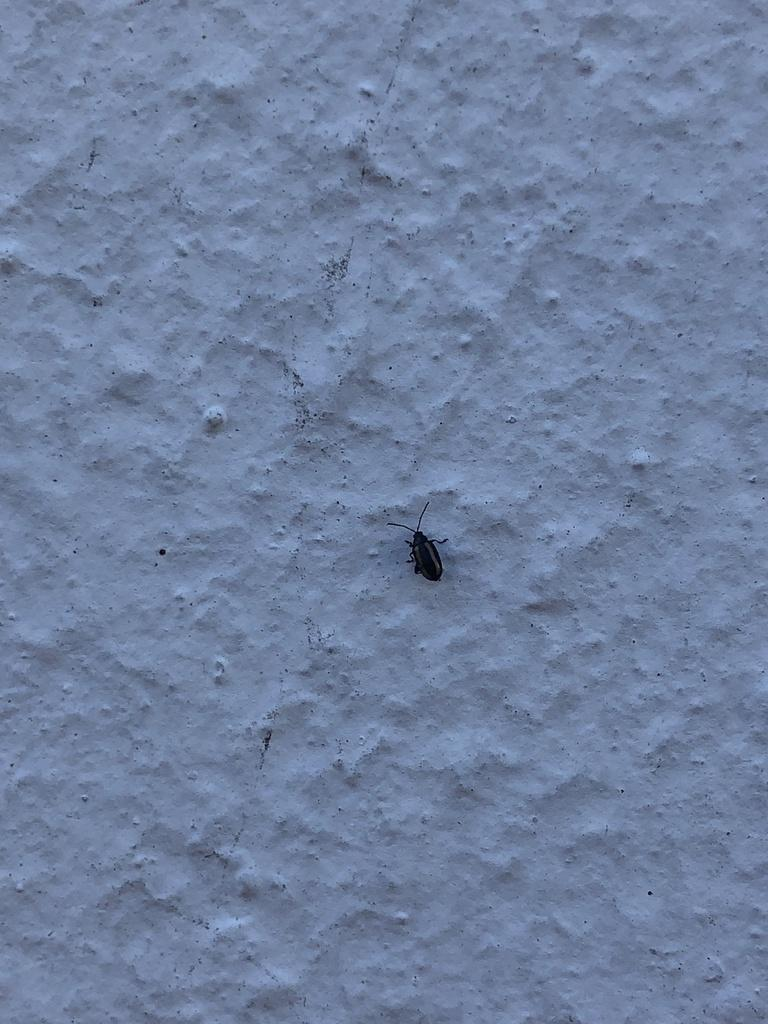flea_beetle: (368, 486, 479, 605)
